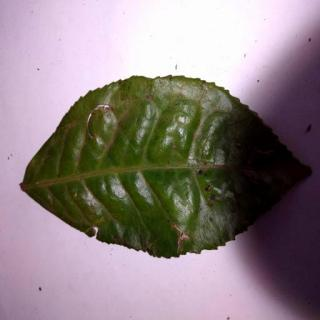Bird Eye Spot: (21, 78, 313, 260)
